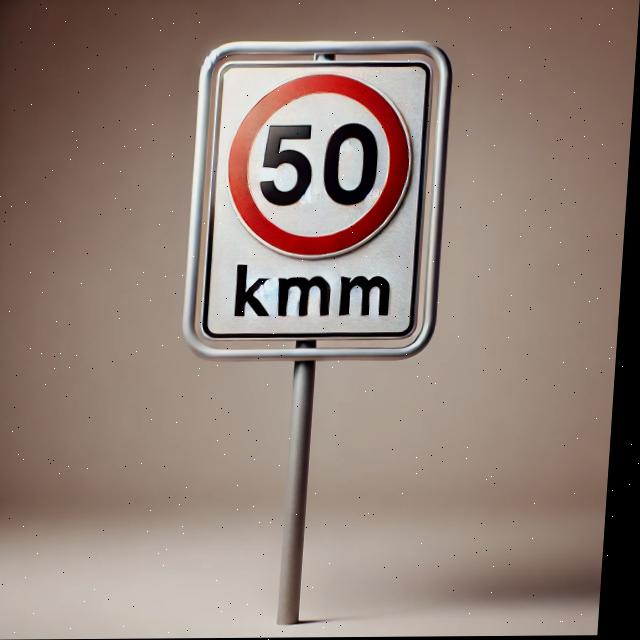Speed limit 50: (224, 71, 421, 262)
